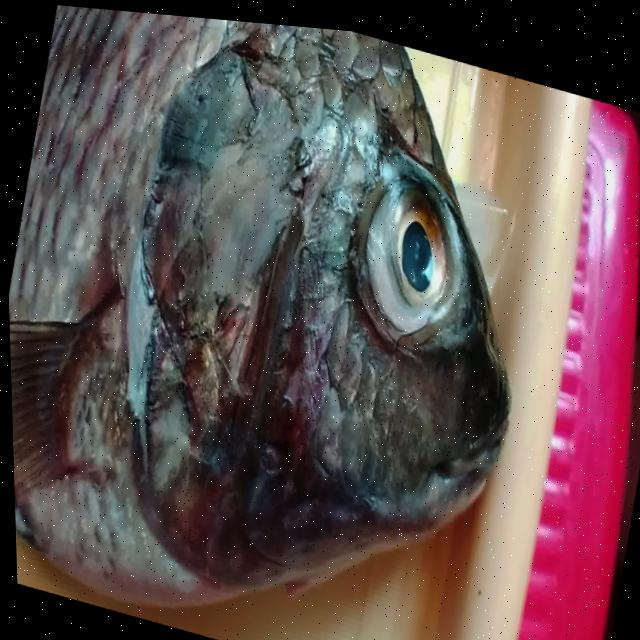Fresh: (331, 124, 499, 394)
